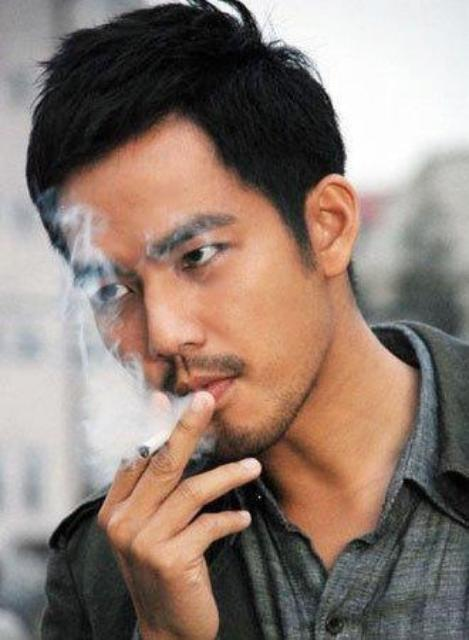SafeDriving: (166, 219, 242, 283), (86, 263, 148, 319)
Smoking: (137, 396, 169, 464)
